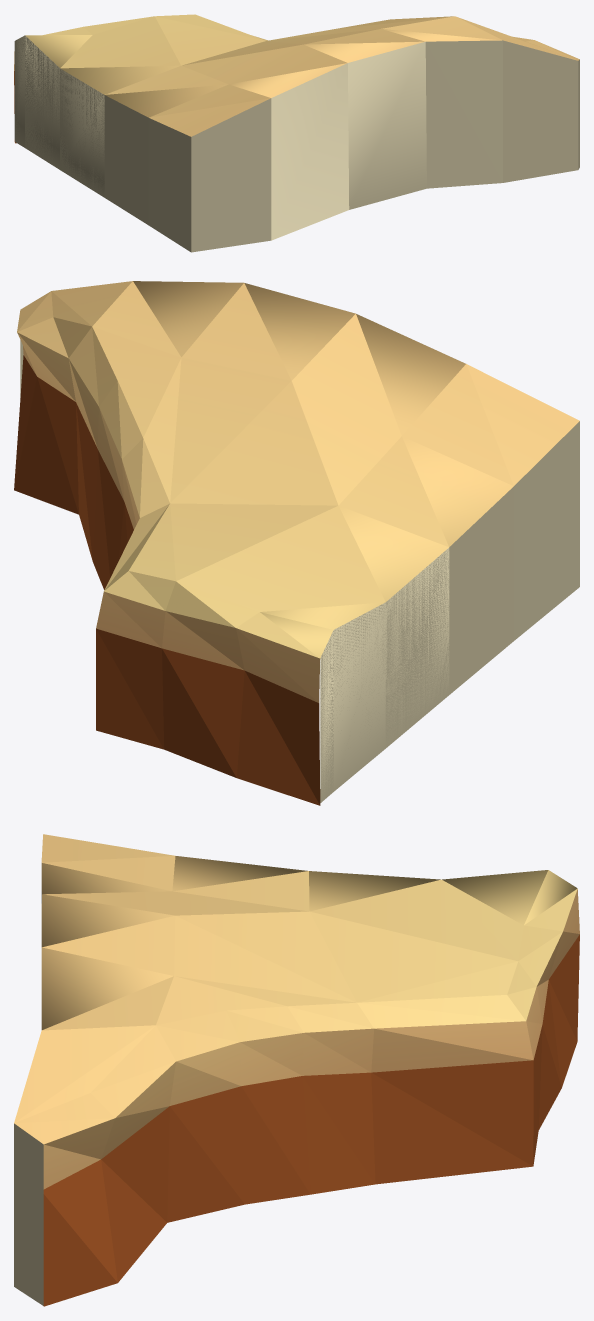
File: africa_Egypt.glb
The picture shows the model from 3 angles, top to bottom: view 1: azimuth 30°, elevation 25°; view 2: azimuth 150°, elevation 25°; view 3: azimuth 270°, elevation 25°; orthographic projection. The views are drawn at different scales.
Visible parts, largest first — view 1: africa_Egypt; view 2: africa_Egypt; view 3: africa_Egypt.
Part boxes in pixels (x1,y1,x2,y2): africa_Egypt: (14, 14, 579, 252); africa_Egypt: (14, 281, 579, 805); africa_Egypt: (14, 834, 579, 1306).
Size of the model in its own units: 1.4 by 0.6079 by 1.18.
Materials: 2 (1 with a texture image).
